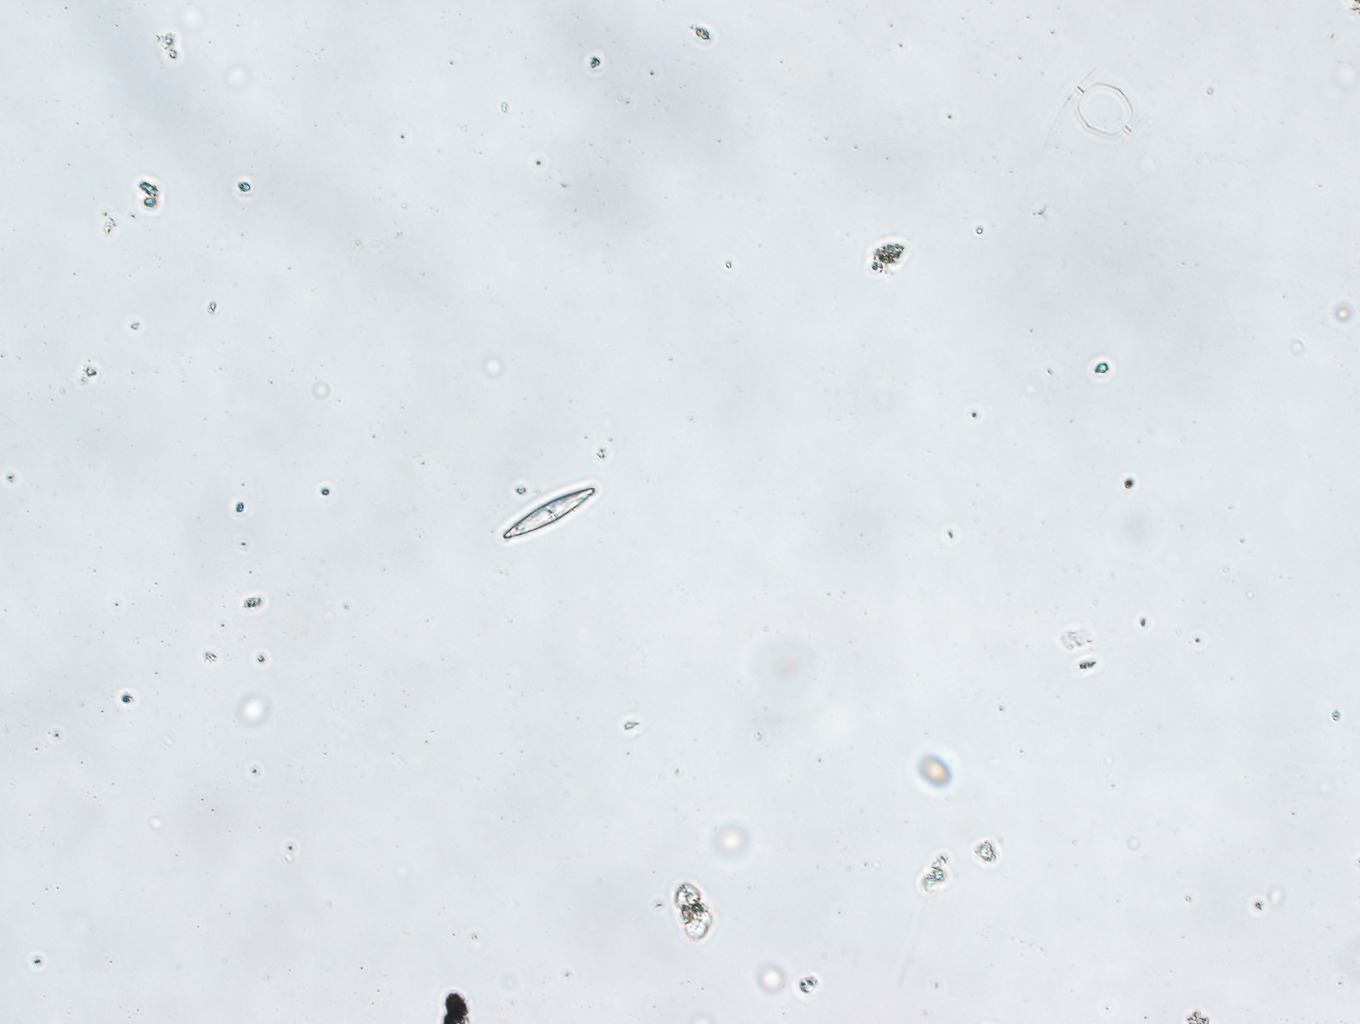navicula: (495, 483, 605, 543)
